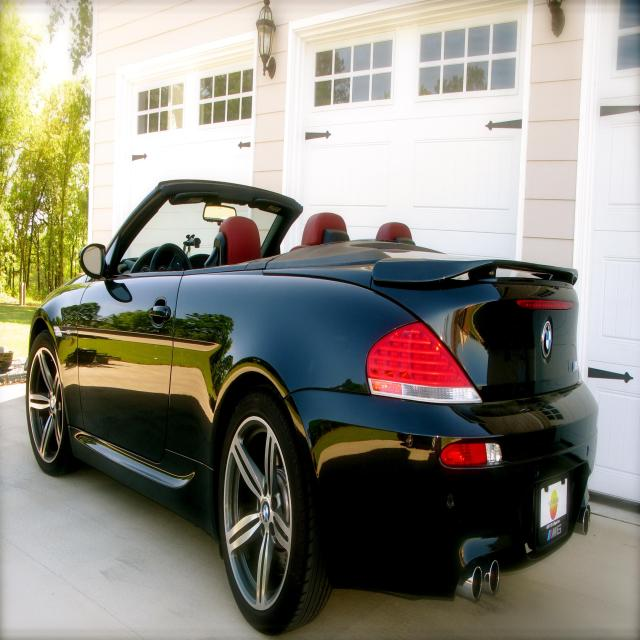Car: (24, 175, 616, 640)
